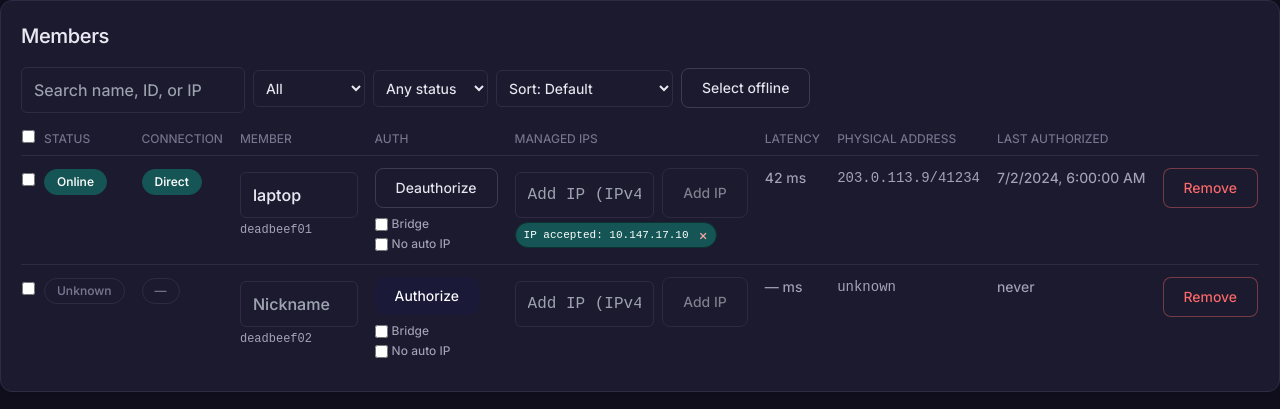
Test: MemberTable › filters members by free-text search
This screenshot has width=1280, height=409.
Check: the field showing "laptop" is shown, box 240,172 -> 358,218
Type "laptop" into the field named "search members" at (133,90), box 21,67 -> 245,113
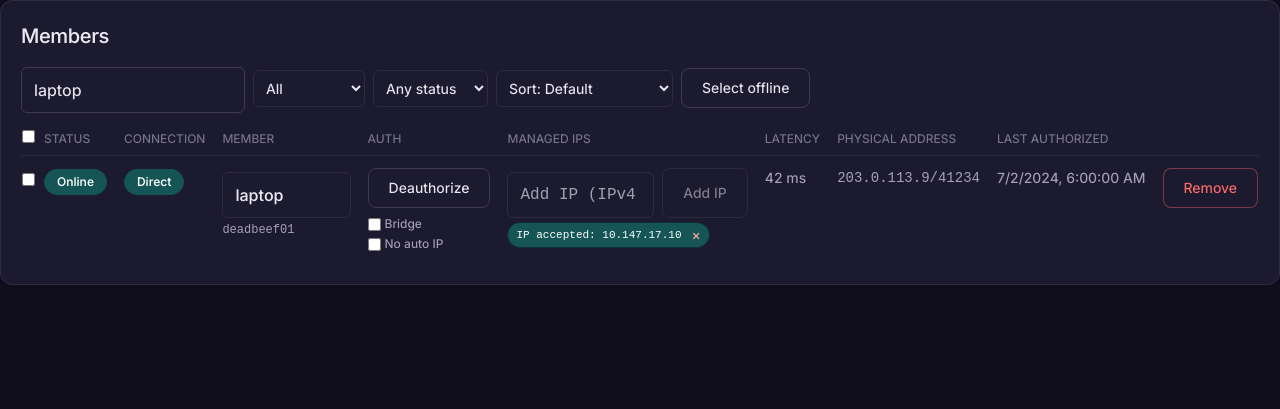
Check: the field named "Nickname for deadbeef01" holds "laptop", box 222,172 -> 350,218
Check: the text "deadbeef02" is gone
